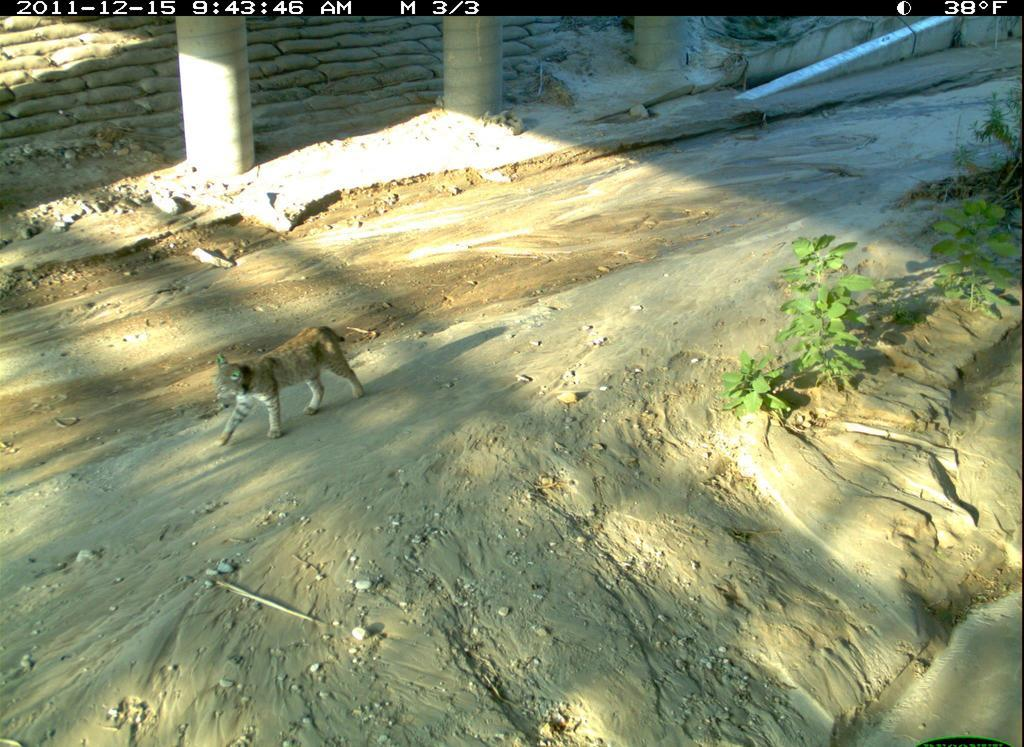bobcat: (204, 310, 373, 463)
